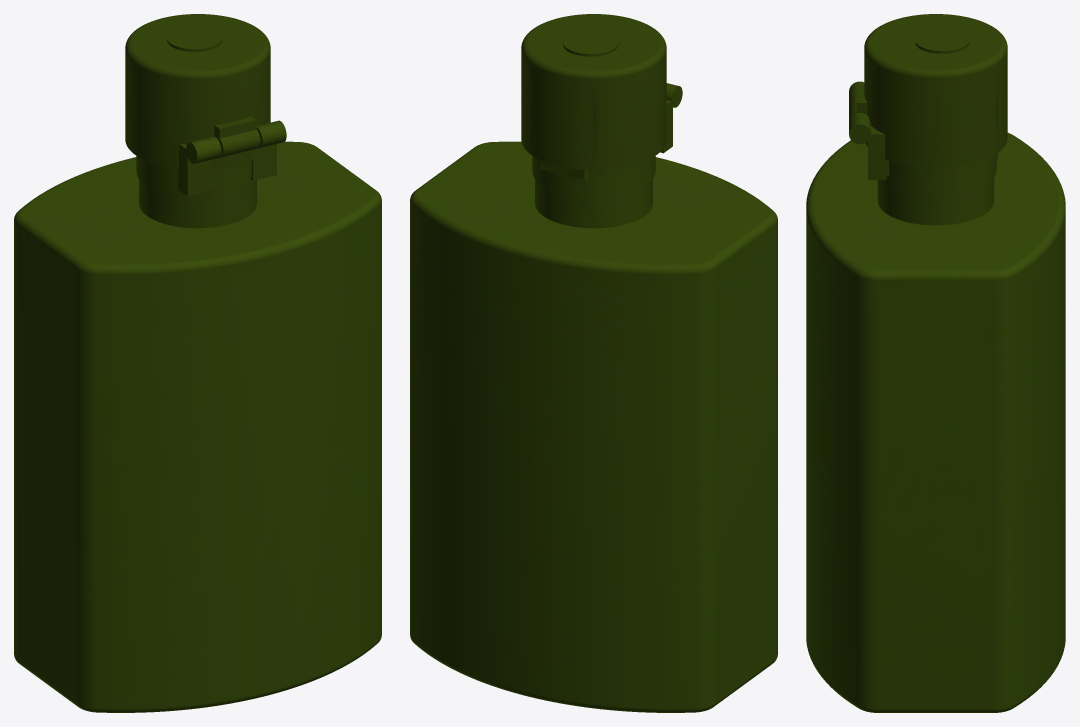
Rendered from assembled.glb.
3 views of the same model, side by side, from view 1: azimuth 30°, elevation 25°; view 2: azimuth 150°, elevation 25°; view 3: azimuth 270°, elevation 25° (orthographic).
Visible parts, largest first — view 1: bottle__geometry_0, cap__geometry_0; view 2: bottle__geometry_0, cap__geometry_0; view 3: bottle__geometry_0, cap__geometry_0.
Boxes of the visible parts, <box> form: bottle__geometry_0: <box>14,120,381,712</box>; cap__geometry_0: <box>125,14,270,169</box>; bottle__geometry_0: <box>410,83,777,712</box>; cap__geometry_0: <box>521,14,666,169</box>; bottle__geometry_0: <box>806,81,1065,712</box>; cap__geometry_0: <box>849,14,1007,167</box>.
Size of the model in its own units: 0.0816 by 0.1578 by 0.0616.
2 materials, 2 textured.
